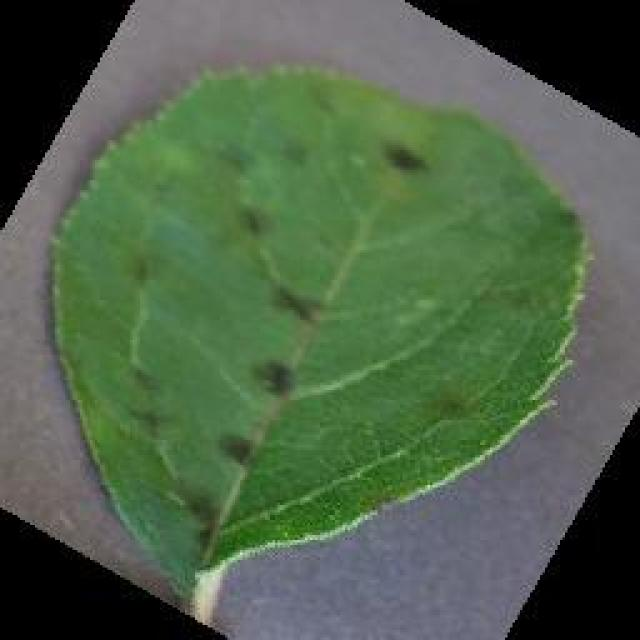apple scab disease: (43, 55, 595, 623)
